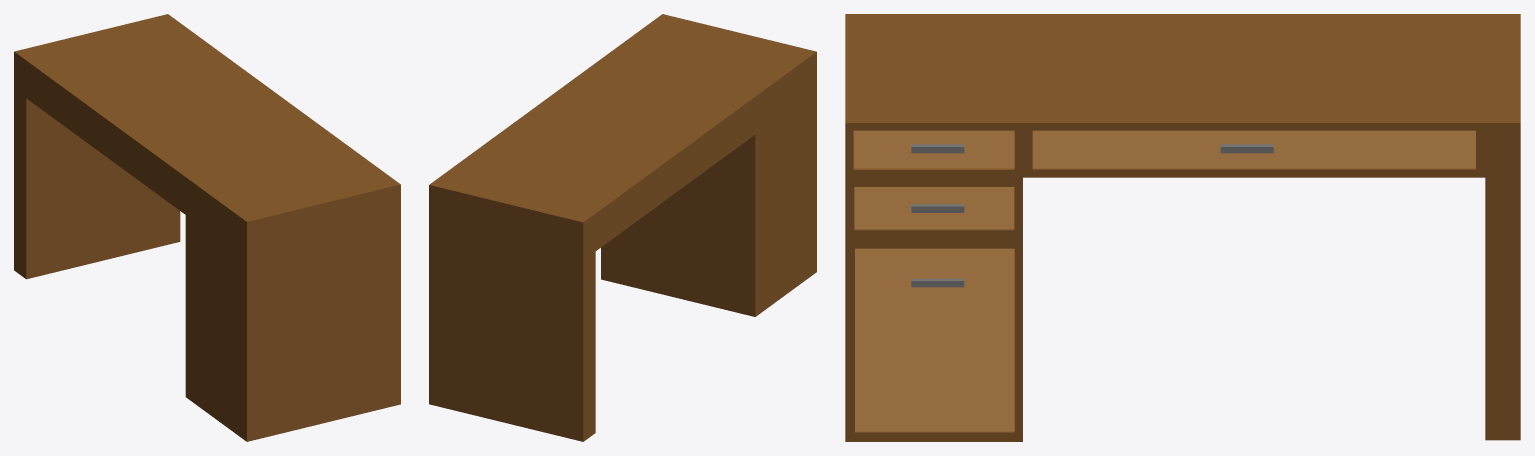
Rendered from bureauold.fbx.
The picture shows the model from 3 angles, left to right: view 1: azimuth 30°, elevation 25°; view 2: azimuth 150°, elevation 25°; view 3: azimuth 270°, elevation 25°; orthographic projection. The views are drawn at different scales.
Parts seen in each view (by area): view 1: Cube.057; view 2: Cube.057; view 3: Cube.057.
Boxes of the visible parts, x1=… form: Cube.057: x1=14, y1=14, x2=400, y2=441; Cube.057: x1=429, y1=14, x2=816, y2=441; Cube.057: x1=845, y1=14, x2=1520, y2=441.
Bounding box in the file's own units: 666 × 899 × 1725.
